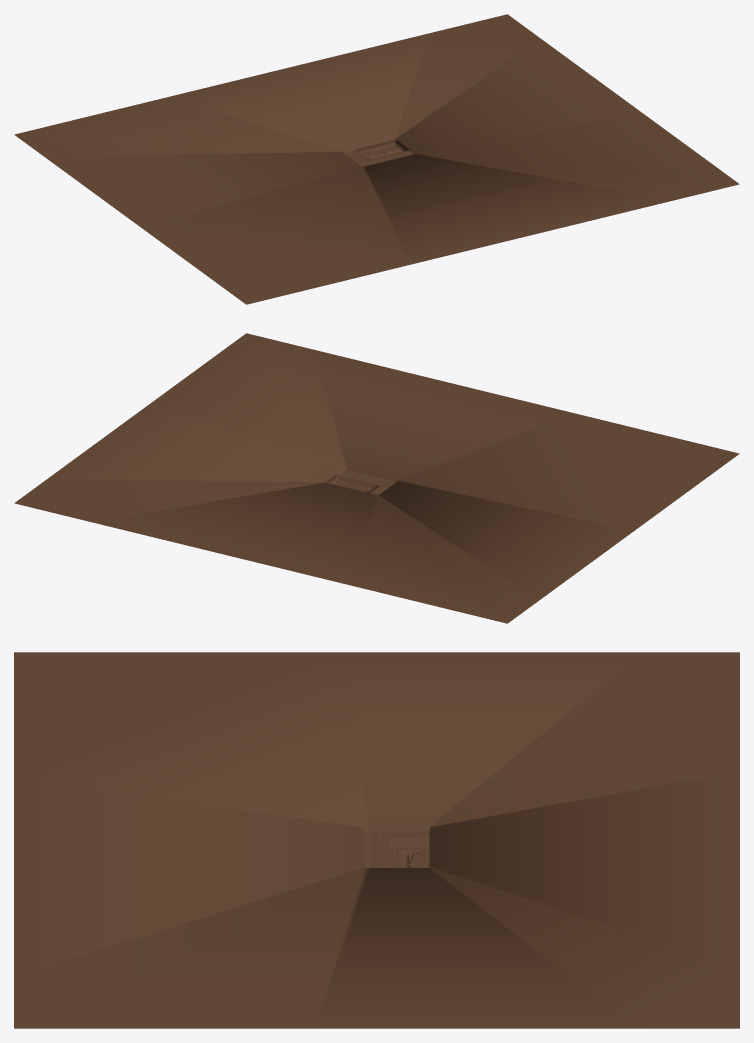
File: Houses.gltf
The picture shows the model from 3 angles, top to bottom: view 1: azimuth 30°, elevation 25°; view 2: azimuth 150°, elevation 25°; view 3: azimuth 270°, elevation 25°; orthographic projection. The views are drawn at different scales.
Visible parts, largest first — view 1: Site.cleaning.003; view 2: Site.cleaning.003; view 3: Site.cleaning.003.
Boxes of the visible parts, x1,y1,x2,y2 form: Site.cleaning.003: [14, 14, 739, 304]; Site.cleaning.003: [14, 333, 739, 623]; Site.cleaning.003: [14, 652, 739, 1028].
Size of the model in its own units: 243 by 3.73 by 198.
